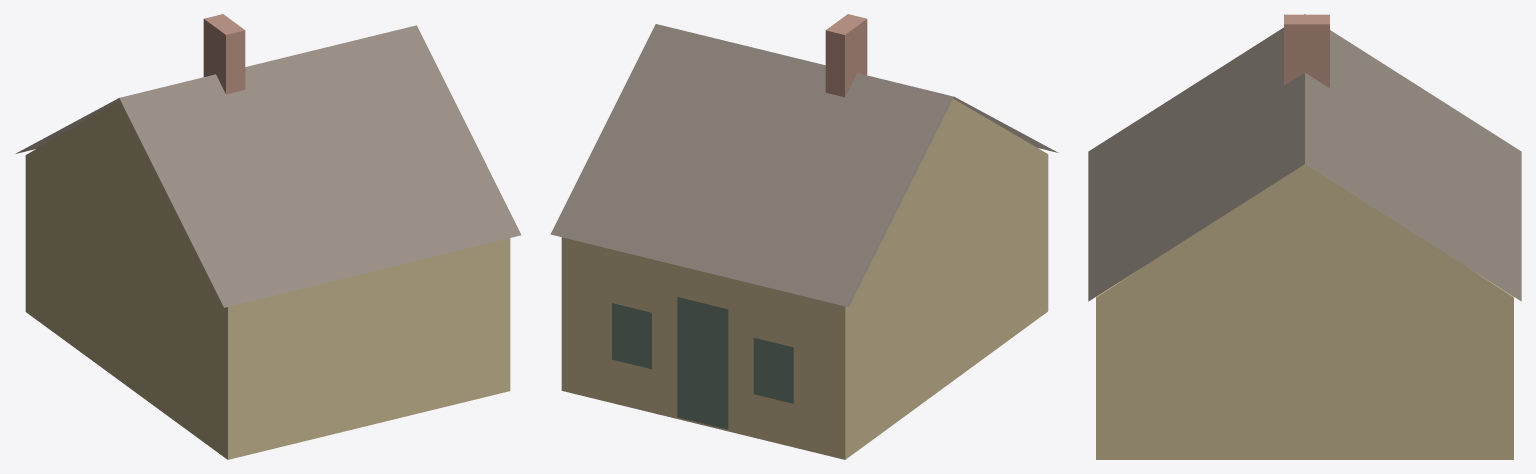
Rendered from recon_1835_south_d3_001__recommended_1835.glb.
3 renders of one model, left to right at view 1: azimuth 30°, elevation 25°; view 2: azimuth 150°, elevation 25°; view 3: azimuth 270°, elevation 25°, orthographic. The views are drawn at different scales.
Parts seen in each view (by area): view 1: recon_1835_south_d3_001__recommended_1835; view 2: recon_1835_south_d3_001__recommended_1835; view 3: recon_1835_south_d3_001__recommended_1835.
Boxes of the visible parts, x1,y1,x2,y2 form: recon_1835_south_d3_001__recommended_1835: (15,14,521,459); recon_1835_south_d3_001__recommended_1835: (550,14,1058,459); recon_1835_south_d3_001__recommended_1835: (1088,14,1521,459).
Size of the model in its own units: 5.53 by 5.97 by 6.74.
